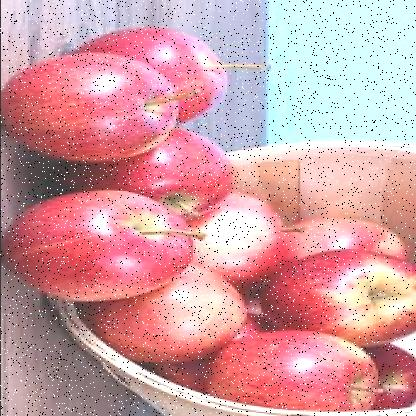apple: (17, 196, 187, 302), (73, 126, 236, 230), (15, 55, 178, 156), (268, 249, 408, 350), (76, 24, 224, 119), (202, 333, 377, 412), (153, 192, 285, 292), (107, 266, 241, 361)
